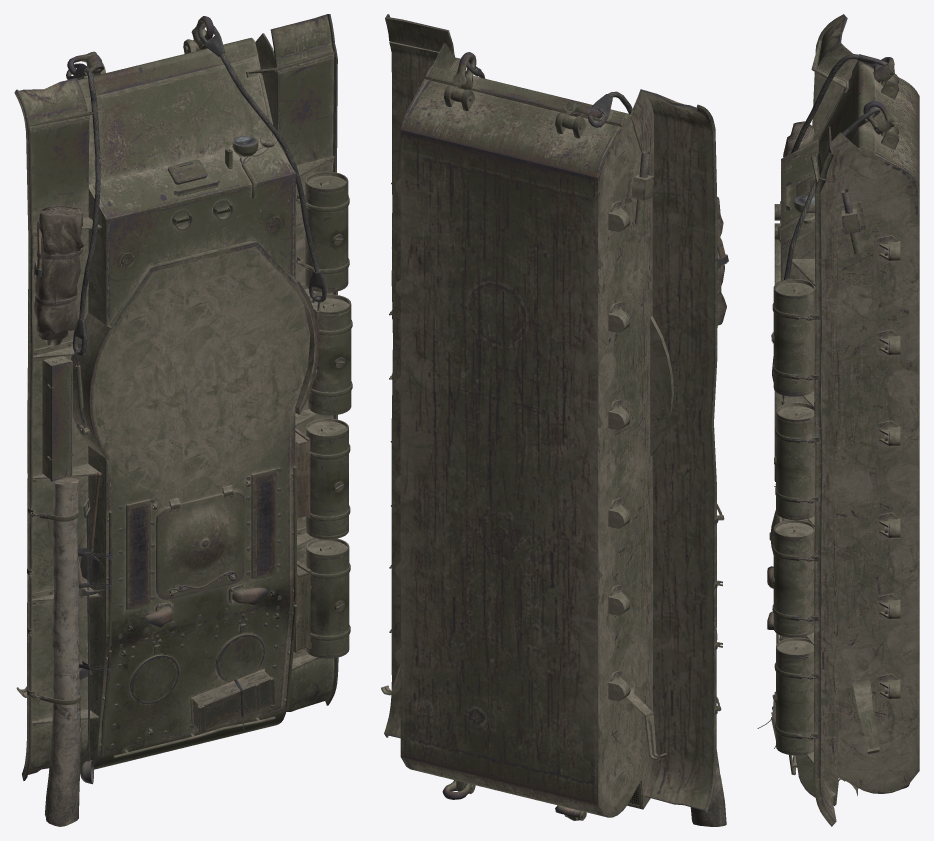
The model's file is Hull.glb.
3 renders of one model, left to right at view 1: azimuth 30°, elevation 25°; view 2: azimuth 150°, elevation 25°; view 3: azimuth 270°, elevation 25°, orthographic. The views are drawn at different scales.
Visible parts, largest first — view 1: set_0_group_0, set_0_group_1; view 2: set_0_group_0, set_0_group_1; view 3: set_0_group_0, set_0_group_1.
Part boxes in pixels (box(x1,y1,x2,y2)): set_0_group_0: box(14, 14, 352, 780); set_0_group_1: box(34, 206, 311, 826); set_0_group_0: box(381, 14, 724, 820); set_0_group_1: box(690, 197, 728, 826); set_0_group_0: box(767, 14, 919, 826); set_0_group_1: box(757, 121, 814, 748).
Bounding box in the file's own units: 3.24 × 7.06 × 1.47.
Materials: 2 (2 with a texture image).
